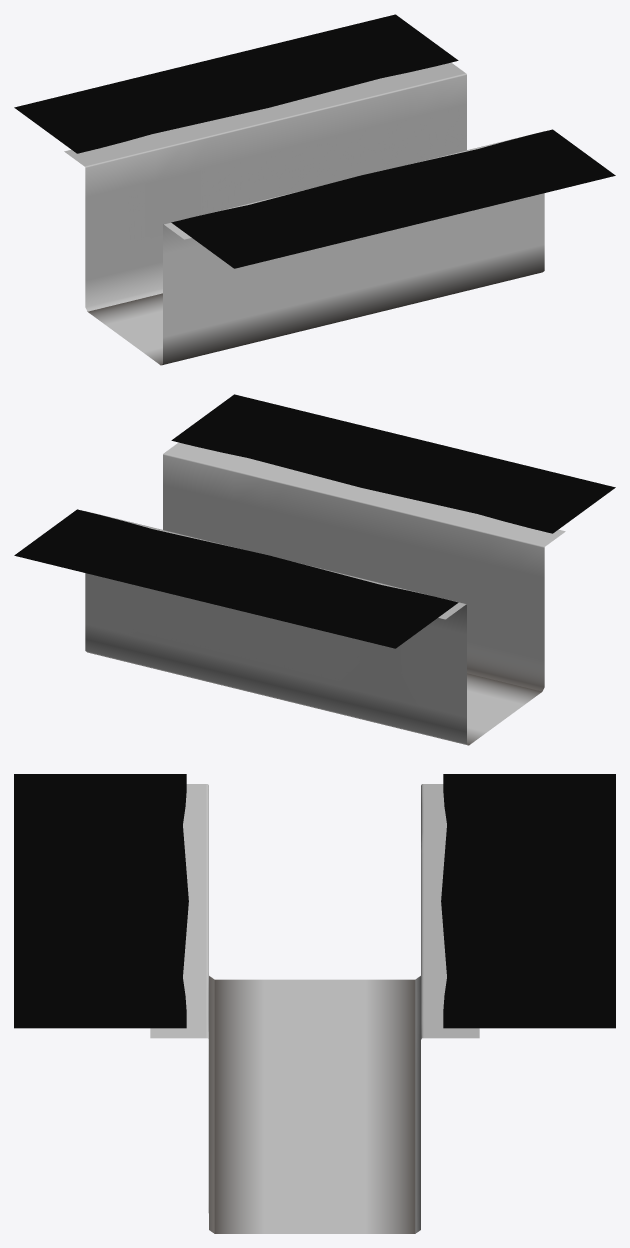
Rendered from blockB.fbx.
The picture shows the model from 3 angles, top to bottom: view 1: azimuth 30°, elevation 25°; view 2: azimuth 150°, elevation 25°; view 3: azimuth 270°, elevation 25°; orthographic projection. The views are drawn at different scales.
Visible parts, largest first — view 1: polySurface12 (×2), polySurface13, polySurface5, floorA; view 2: polySurface12 (×2), polySurface5, polySurface13, floorA; view 3: polySurface12 (×2), floorA, polySurface5, polySurface13.
Boxes of the visible parts, box(x1,y1,x2,y2) form: polySurface12 (×2): box(14, 14, 615, 268); polySurface13: box(64, 62, 466, 311); polySurface5: box(161, 131, 544, 365); floorA: box(87, 293, 162, 365); polySurface12 (×2): box(14, 394, 615, 648); polySurface5: box(163, 442, 565, 691); polySurface13: box(85, 511, 468, 745); floorA: box(87, 652, 541, 745); polySurface12 (×2): box(14, 774, 615, 1028); floorA: box(214, 979, 415, 1233); polySurface5: box(150, 784, 214, 1233); polySurface13: box(415, 784, 479, 1233).
Bounding box in the file's own units: 900 × 339 × 900.
